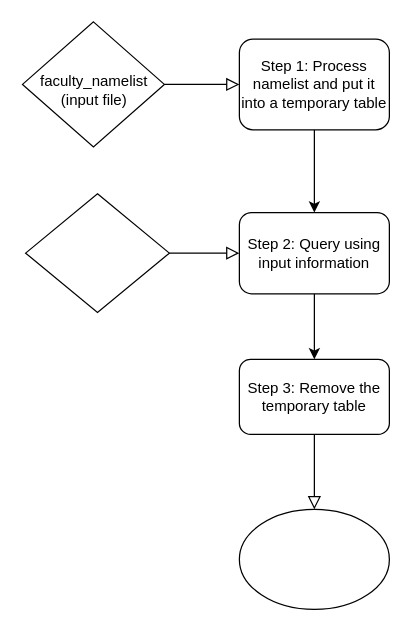
The diagram is 411 pixels wide and 631 high, and some of its shapes have lost their labels. Each missing label, with the centre of its shape:
"Patent records (output)" goes at point (313, 558).
"university_name (input string)" goes at point (96, 252).
